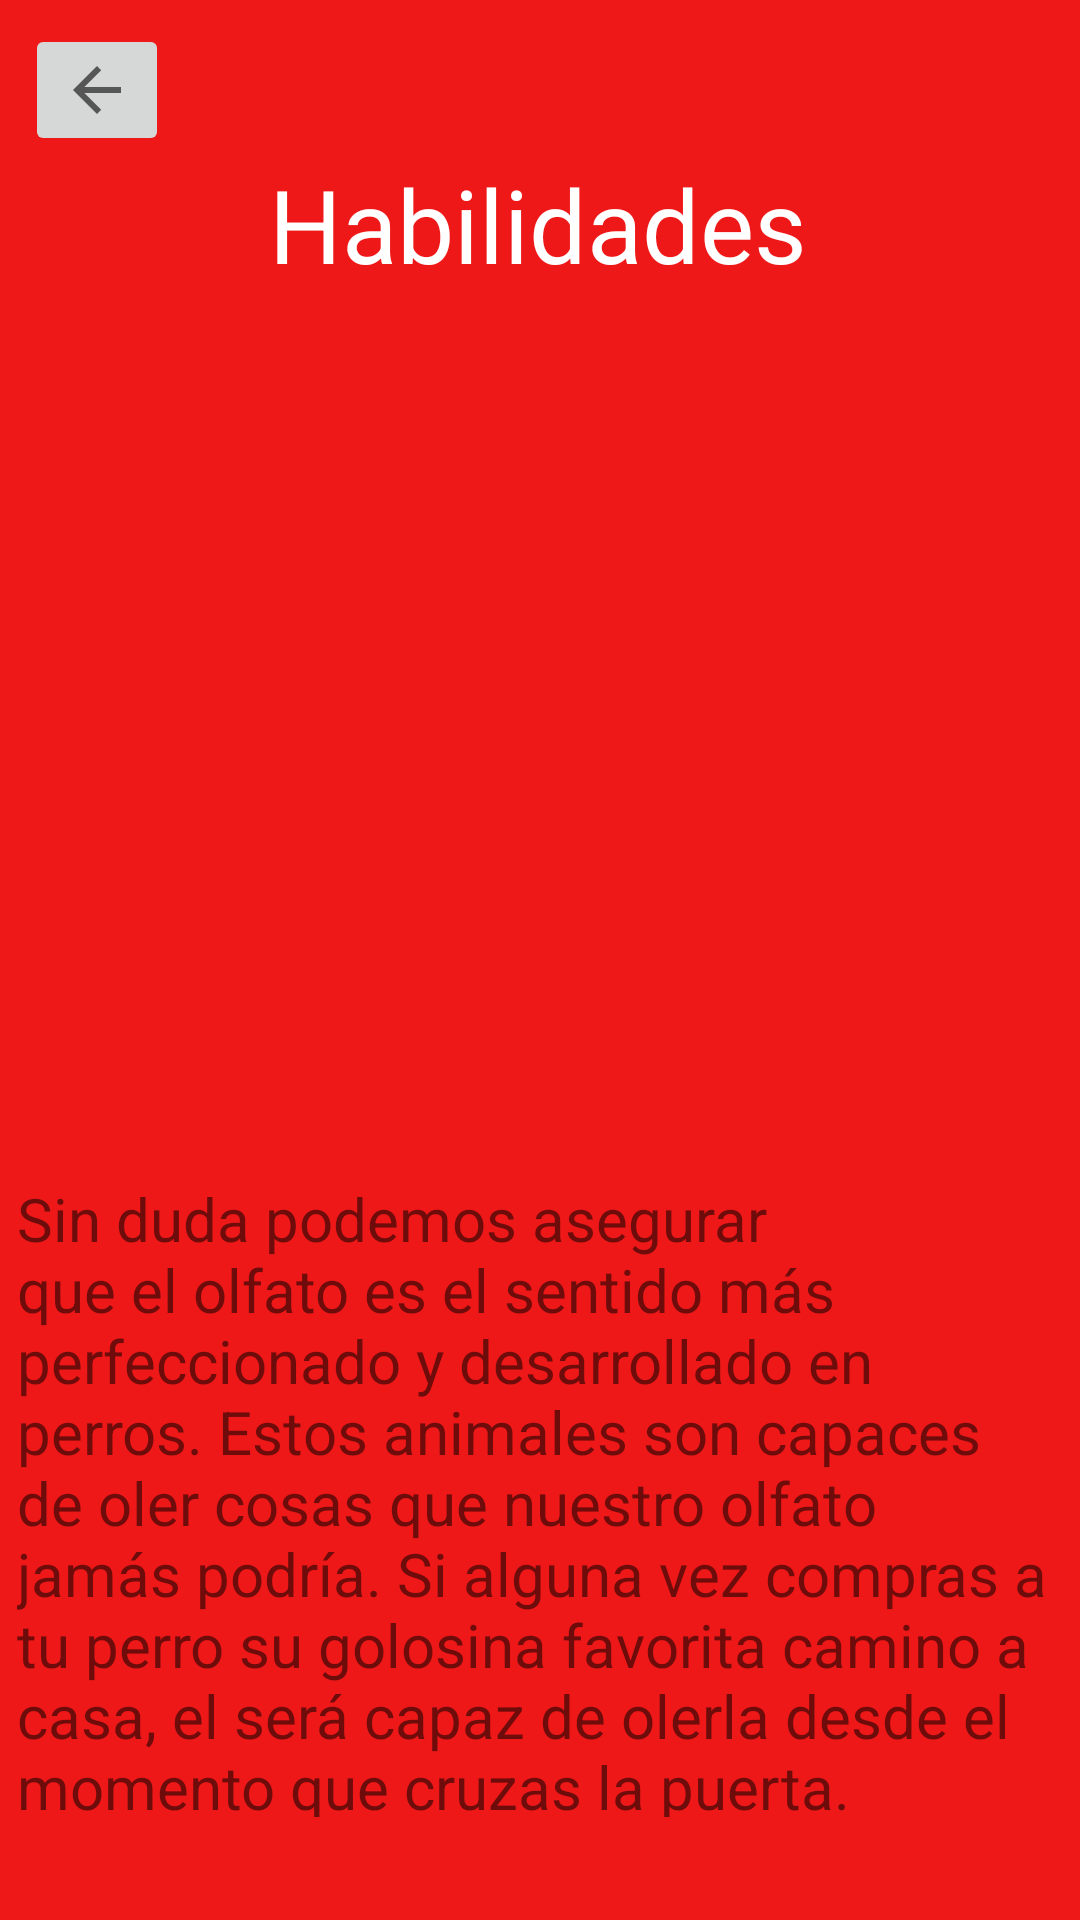

Icon click points for this 1080px×1920px phone screenshot, format (x=x, y=y):
Botonatras2: (x=97, y=90)
